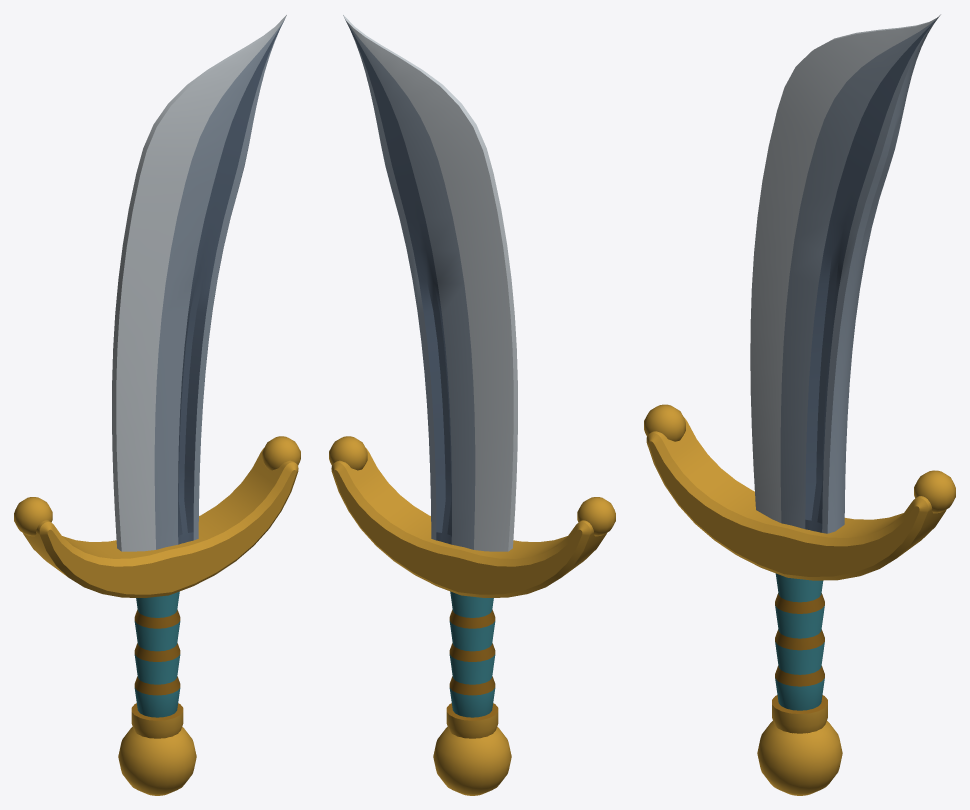
Rendered from Scimitar_17.glb.
3 renders of one model, left to right at view 1: azimuth 30°, elevation 25°; view 2: azimuth 150°, elevation 25°; view 3: azimuth 330°, elevation 25°, orthographic. The views are drawn at different scales.
Visible parts, largest first — view 1: Scimitar_17; view 2: Scimitar_17; view 3: Scimitar_17.
Part boxes in pixels (x1,y1,x2,y2): Scimitar_17: (14, 15, 300, 795); Scimitar_17: (329, 15, 615, 795); Scimitar_17: (644, 14, 955, 795).
Bounding box in the file's own units: 2.47 × 6.25 × 0.596.
